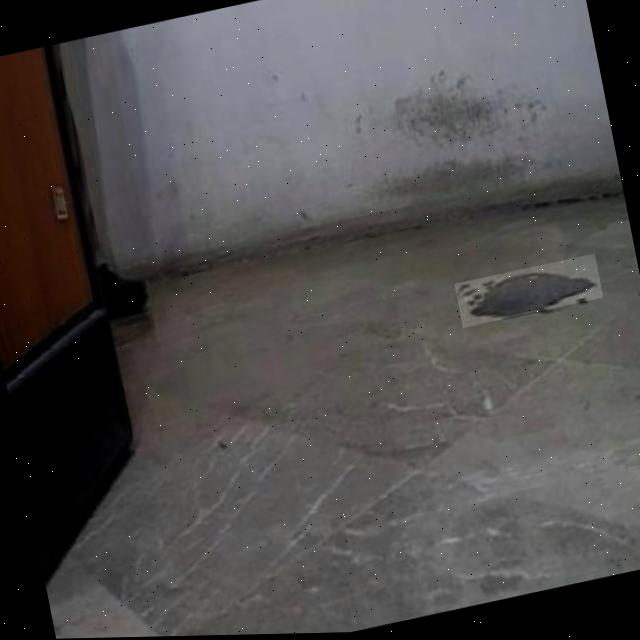spillage: (457, 276, 601, 322)
